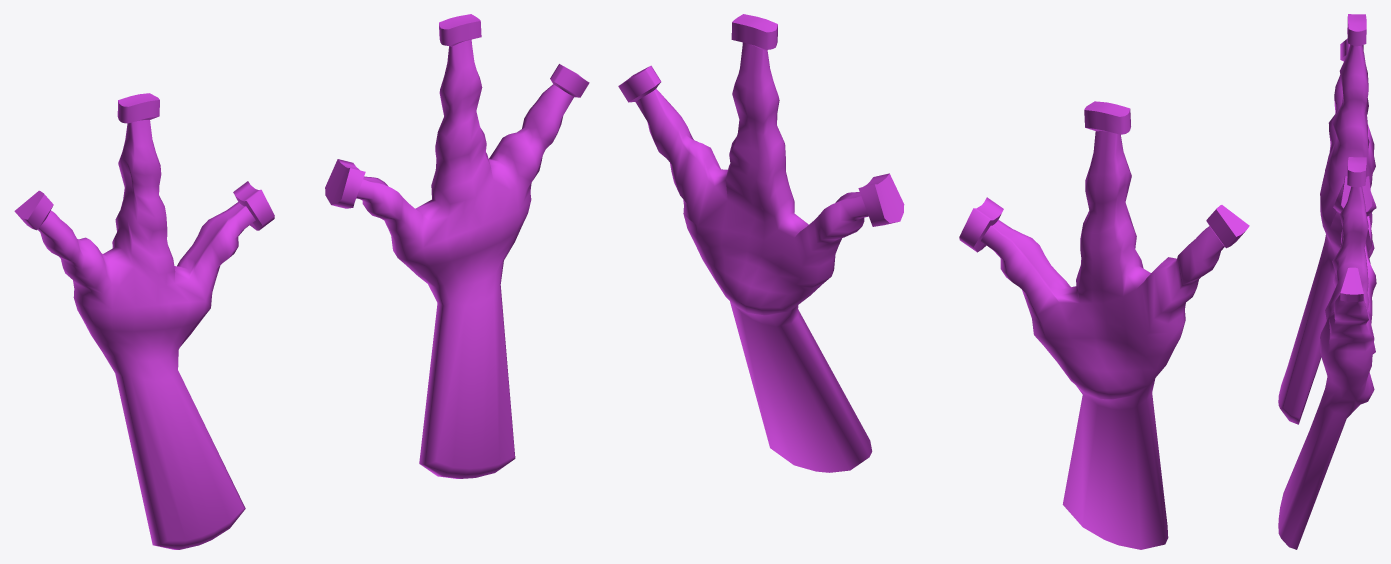
The model's file is hand.fbx.
3 renders of one model, left to right at view 1: azimuth 30°, elevation 25°; view 2: azimuth 150°, elevation 25°; view 3: azimuth 270°, elevation 25°, orthographic. The views are drawn at different scales.
Parts seen in each view (by area): view 1: Roundcube, Roundcube.001; view 2: Roundcube, Roundcube.001; view 3: Roundcube, Roundcube.001.
Boxes of the visible parts, x1=… form: Roundcube: x1=325, y1=14, x2=589, y2=478; Roundcube.001: x1=14, y1=93, x2=274, y2=549; Roundcube: x1=618, y1=14, x2=904, y2=472; Roundcube.001: x1=959, y1=101, x2=1249, y2=549; Roundcube: x1=1278, y1=157, x2=1376, y2=549; Roundcube.001: x1=1278, y1=14, x2=1376, y2=424.
Size of the model in its own units: 1533 by 1112 by 255.
